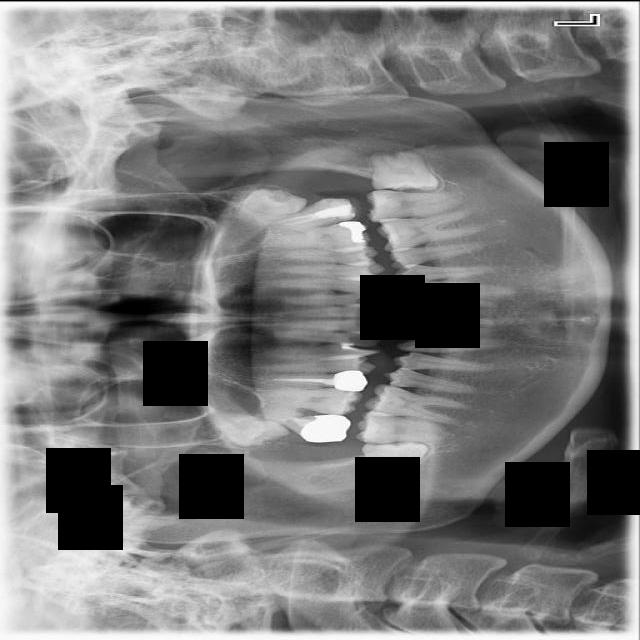3M ESPE Implant: (202, 403, 292, 457)
52: (317, 192, 364, 225), (300, 413, 352, 442), (331, 219, 371, 253), (322, 338, 379, 360), (331, 368, 369, 392), (292, 408, 317, 419)
73: (248, 198, 333, 239), (250, 391, 318, 439), (259, 367, 337, 387), (614, 4, 618, 12)
BioHorizons Implant: (246, 190, 364, 240)
BioLife Implant: (229, 172, 310, 233)
Biomet 3i Implant: (369, 147, 440, 195)
Blue Sky Bio Implant: (366, 189, 463, 222)
Caries: (248, 402, 353, 446)
Implant: (355, 410, 451, 447)
Keystone Dental Implant: (360, 439, 429, 480)
